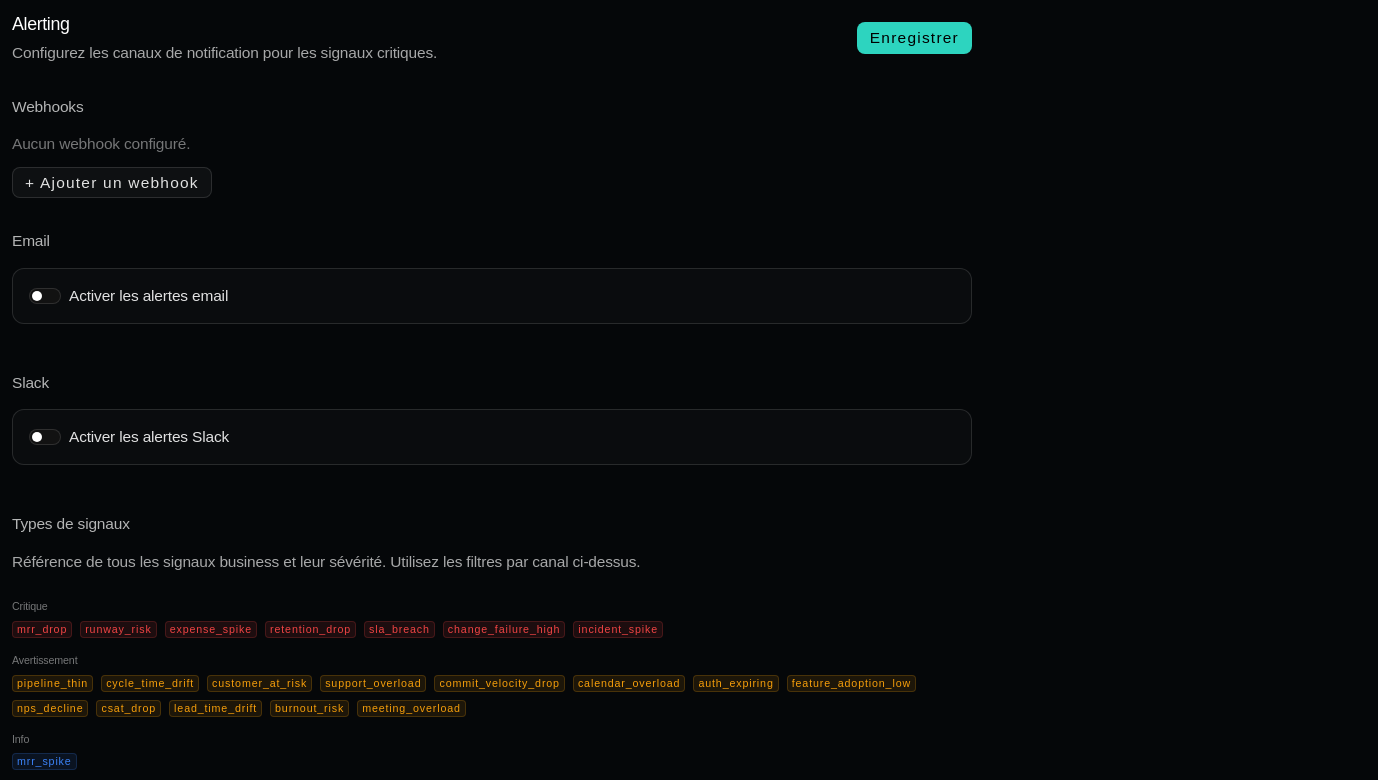
Test: AlertingSettings — sauvegarde › clique sur Enregistrer → appelle PUT et affiche Enregistré
expect the heading "Alerting" is shown: met, box [12,14,70,34]
Click the button "Enregistrer".
click(914, 38)  # box [857,22,972,54]
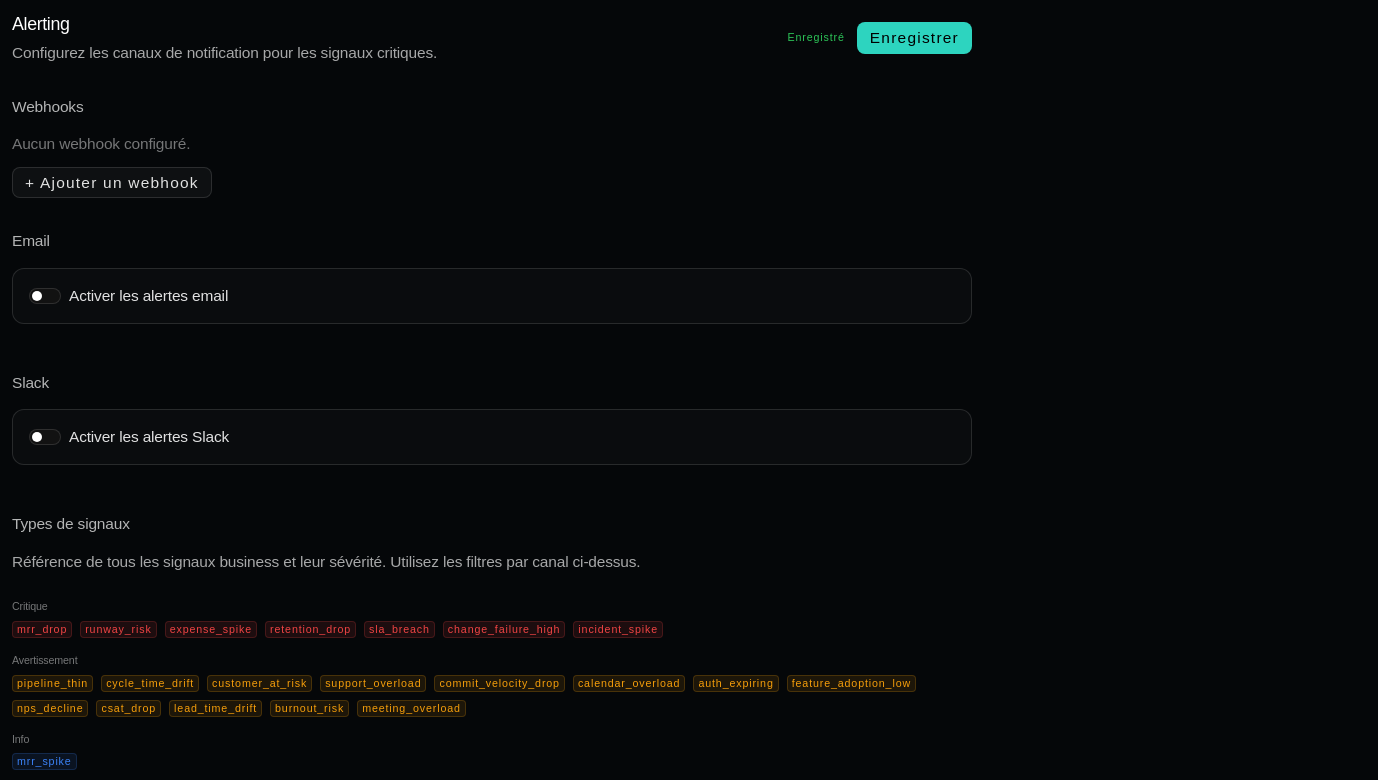
expect the text "Enregistré" is shown: met, box [788,31,845,44]
